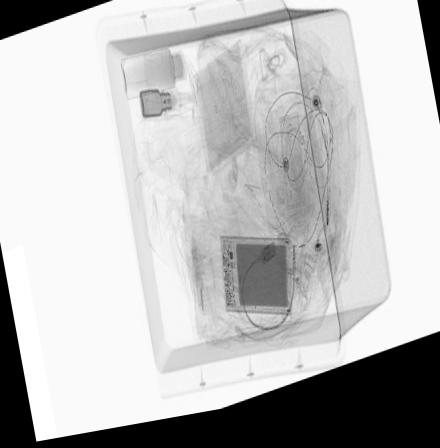Powerbank: (216, 240, 291, 328)
